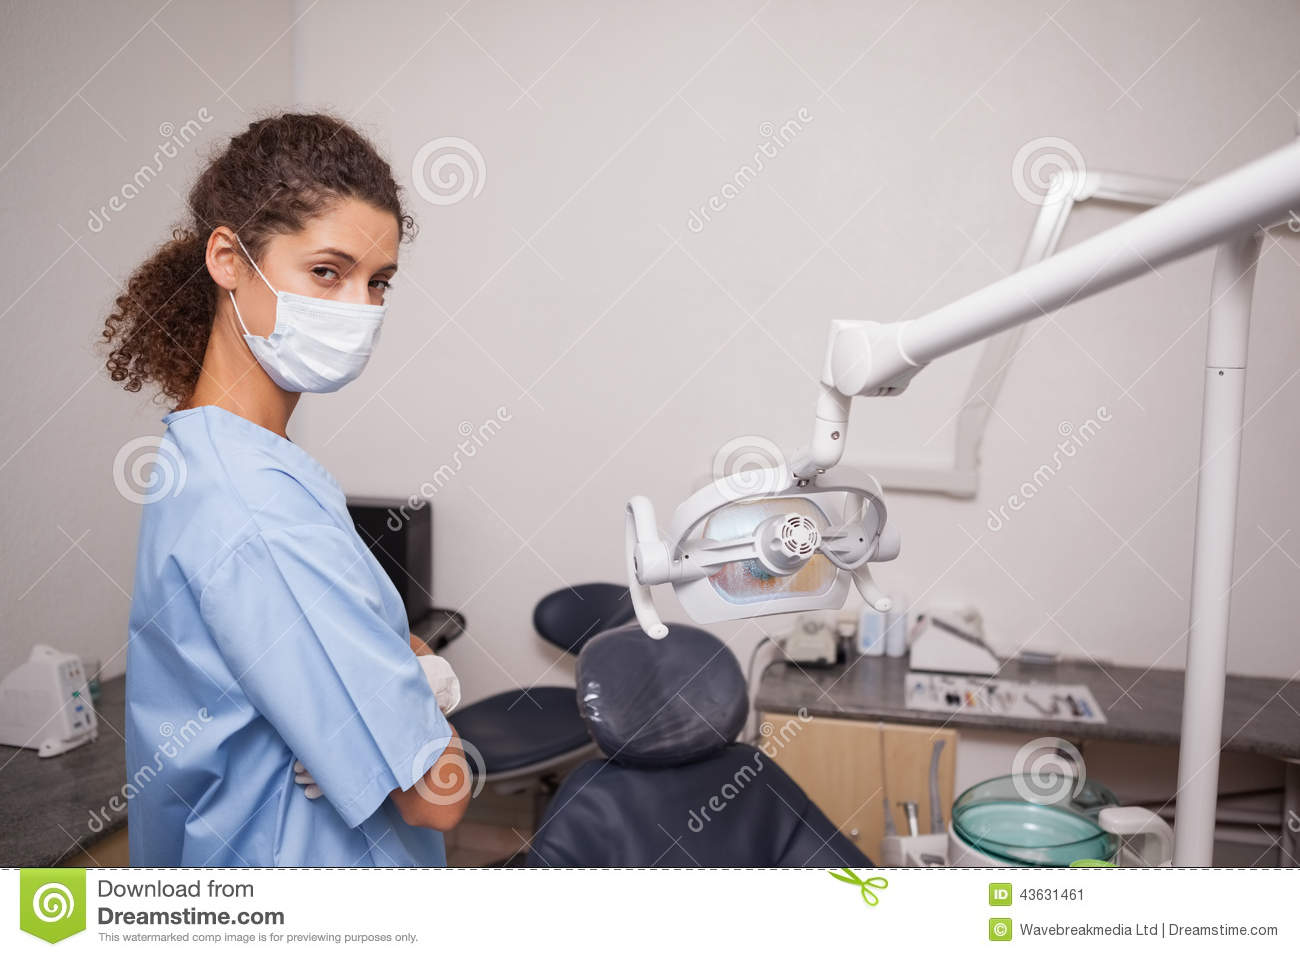mask: (247, 282, 398, 414)
